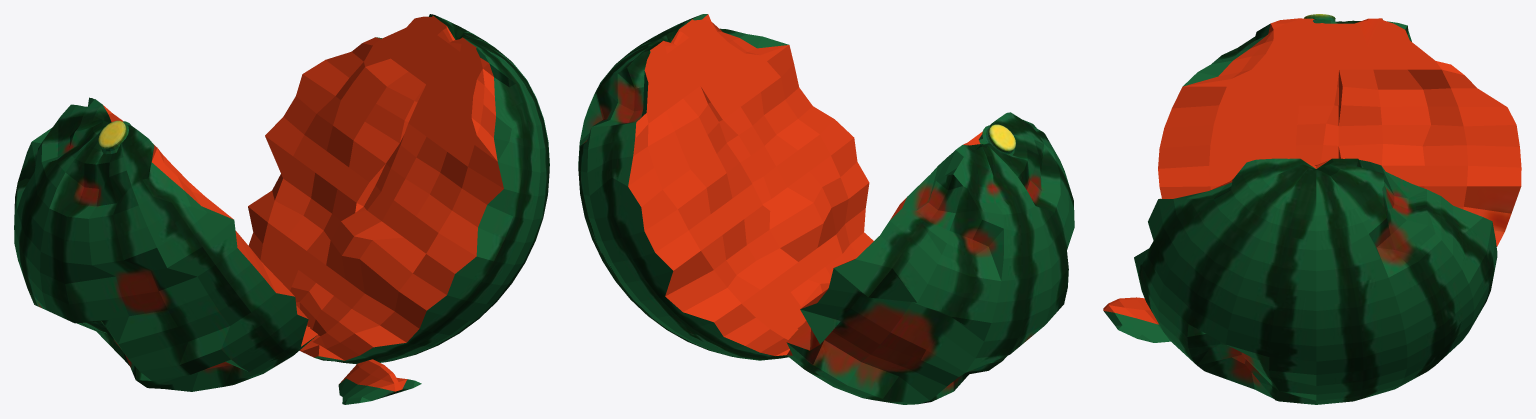
File: ware.fbx
3 views of the same model, side by side, from view 1: azimuth 30°, elevation 25°; view 2: azimuth 150°, elevation 25°; view 3: azimuth 270°, elevation 25° (orthographic). The views are drawn at different scales.
Visible parts, largest first — view 1: Circle.000; view 2: Circle.000; view 3: Circle.000.
Boxes of the visible parts, box(x1,y1,x2,y2) form: Circle.000: box(14, 14, 549, 404); Circle.000: box(578, 14, 1074, 404); Circle.000: box(1103, 14, 1521, 404).
Size of the model in its own units: 281 by 165 by 224.
Materials: 1 (1 with a texture image).
